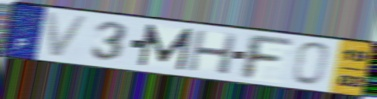0: (289, 40, 334, 87)
3: (89, 20, 130, 63)
F: (241, 32, 295, 82)
H: (185, 28, 240, 77)
M: (136, 22, 195, 72)
V: (43, 10, 93, 60)
